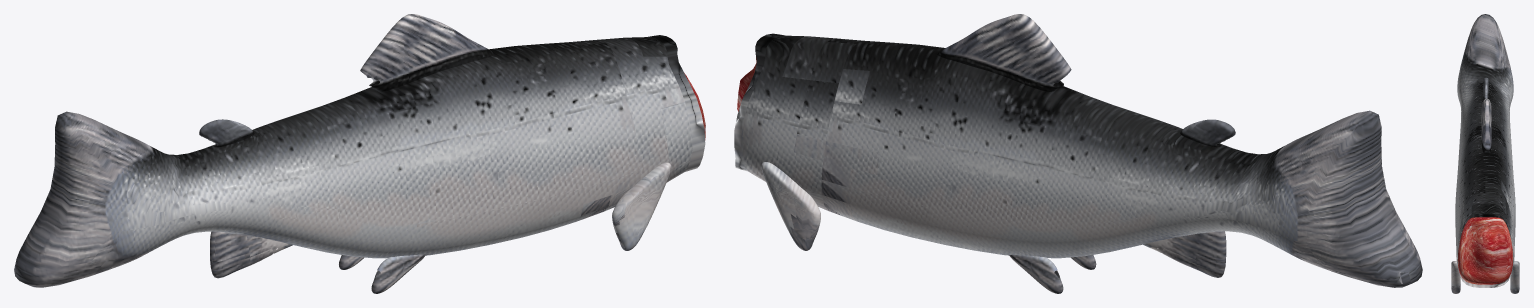
3 views of the same model, side by side, from view 1: azimuth 30°, elevation 25°; view 2: azimuth 150°, elevation 25°; view 3: azimuth 270°, elevation 25° (orthographic). The views are drawn at different scales.
Visible parts, largest first — view 1: Fisk uden h; view 2: Fisk uden h; view 3: Fisk uden h.
Boxes of the visible parts, box(x1,y1,x2,y2) form: Fisk uden h: box(14, 14, 705, 293); Fisk uden h: box(734, 14, 1422, 293); Fisk uden h: box(1451, 14, 1519, 293).
Size of the model in its own units: 666 by 248 by 107.
